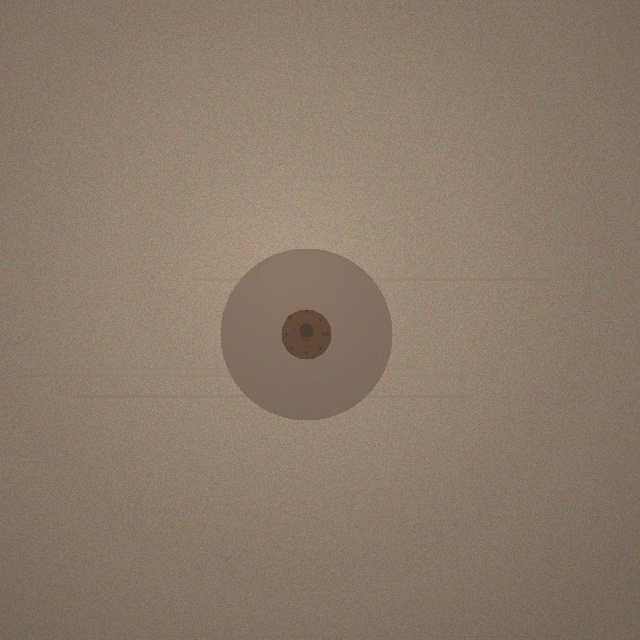cold_weld: (220, 248, 392, 420)
